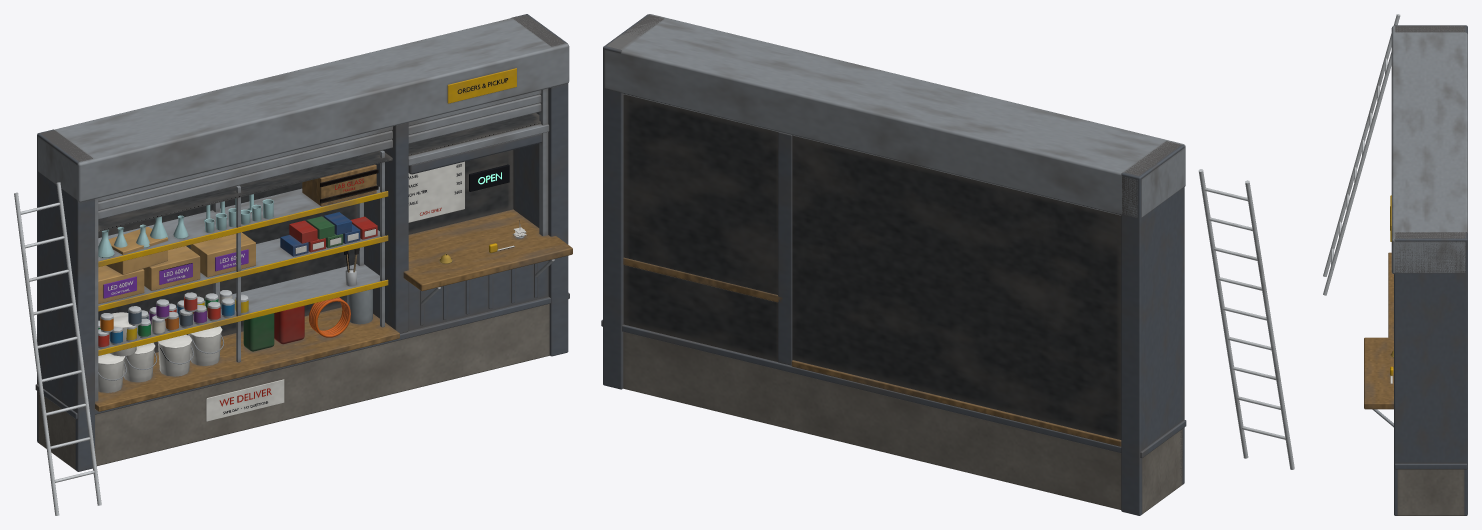
File: hurtownia_witryna.glb
3 renders of one model, left to right at view 1: azimuth 30°, elevation 25°; view 2: azimuth 150°, elevation 25°; view 3: azimuth 270°, elevation 25°, orthographic. The views are drawn at different scales.
Visible parts, largest first — view 1: Witryna, Towar, Napisy, OpenRamka; view 2: Witryna; view 3: Witryna.
Part boxes in pixels (x1=…): Witryna: x1=14, y1=14, x2=572, y2=515; Towar: x1=98, y1=68, x2=526, y2=421; Napisy: x1=108, y1=78, x2=507, y2=414; OpenRamka: x1=469, y1=164, x2=509, y2=191; Witryna: x1=601, y1=14, x2=1294, y2=515; Witryna: x1=1323, y1=14, x2=1467, y2=515.
Bounding box in the file's own units: 4.96 × 2.65 × 1.26.
Materials: 7 (2 with a texture image).
